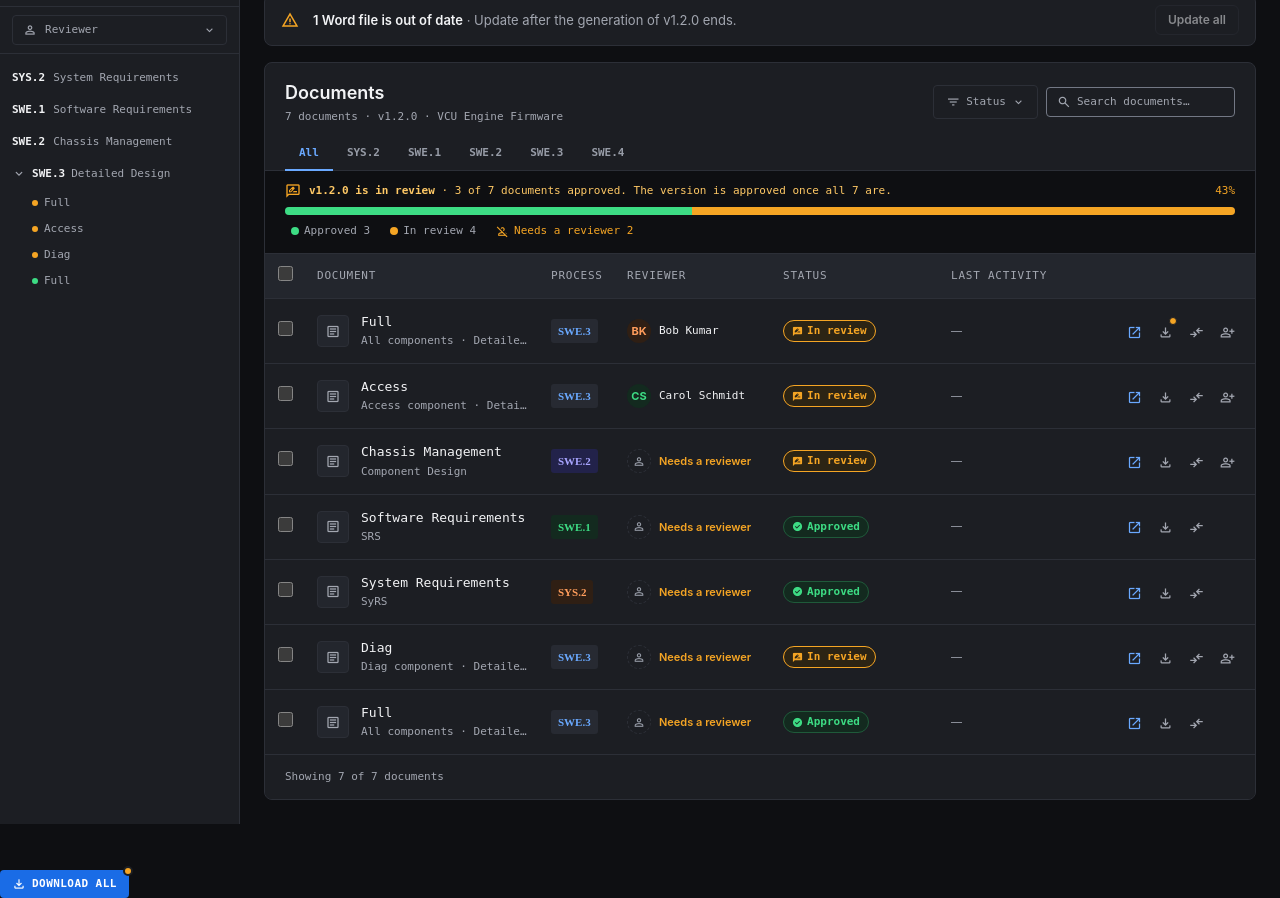
Test: DocumentsPage: Word files out of date › while a generation holds the version, Corrected files is off and the dialog says when
(page scrolled)
Click the button "DOWNLOAD ALL" at (64,884), box 0,870 -> 129,897
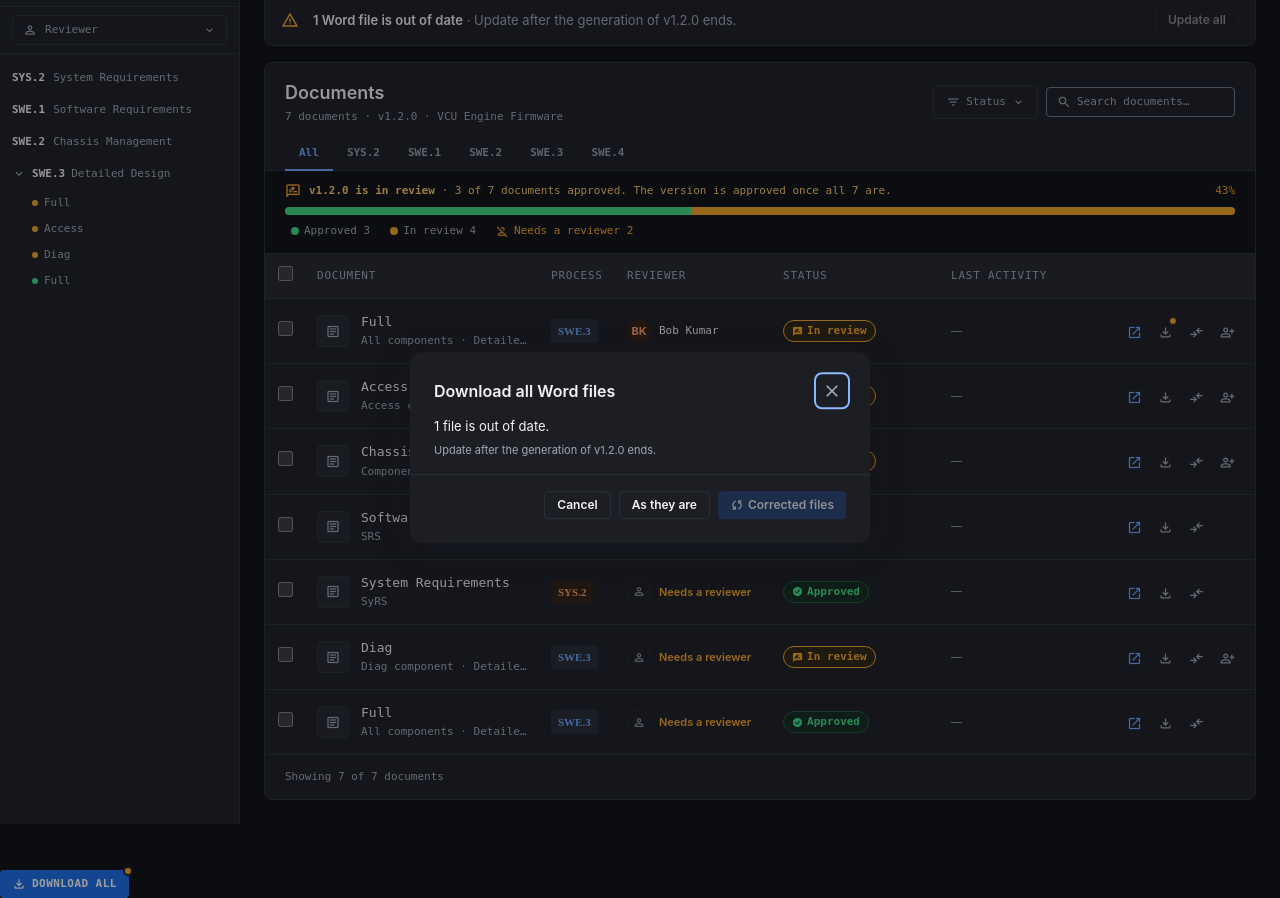
Now the text "Update after the generation of v1.2.0 ends." is shown, box 434,444 -> 656,458
Now the button "Corrected files" is disabled, box 718,492 -> 846,520
